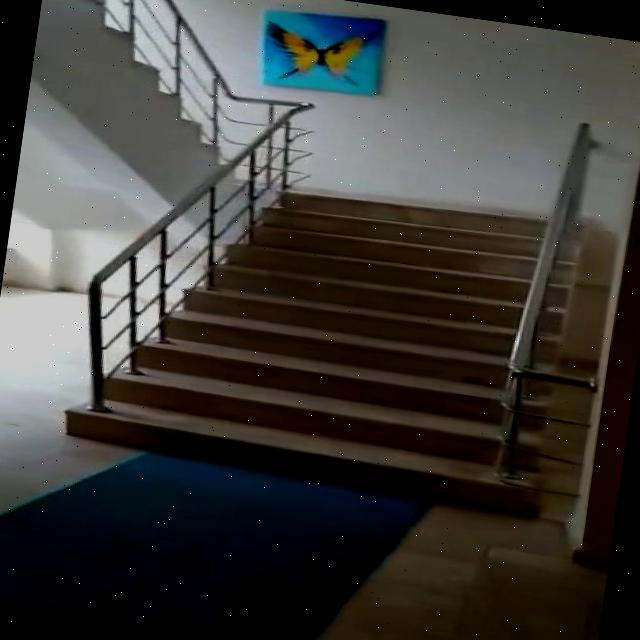stairs: (63, 153, 597, 518)
